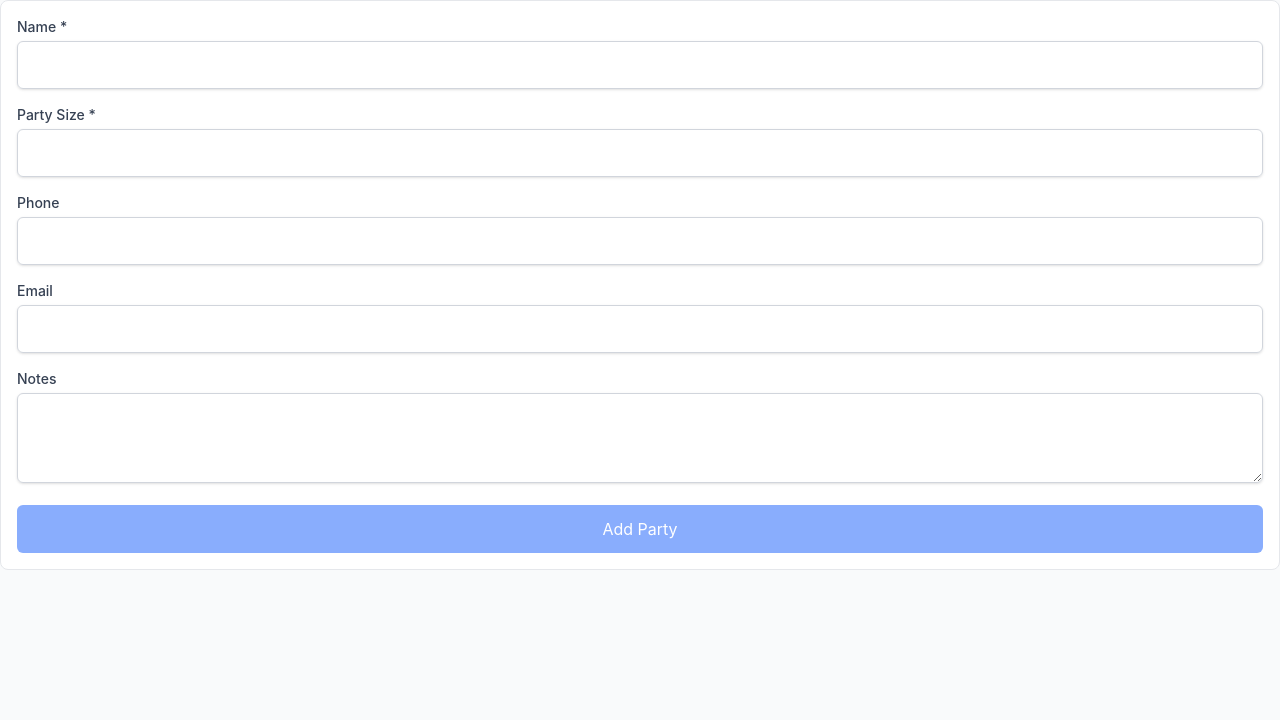
Test: AddPartyForm › displays error message on service failure
Type "Smith" into the field labelled "Name *". click: (640, 65)
box: [17,41,1263,89]
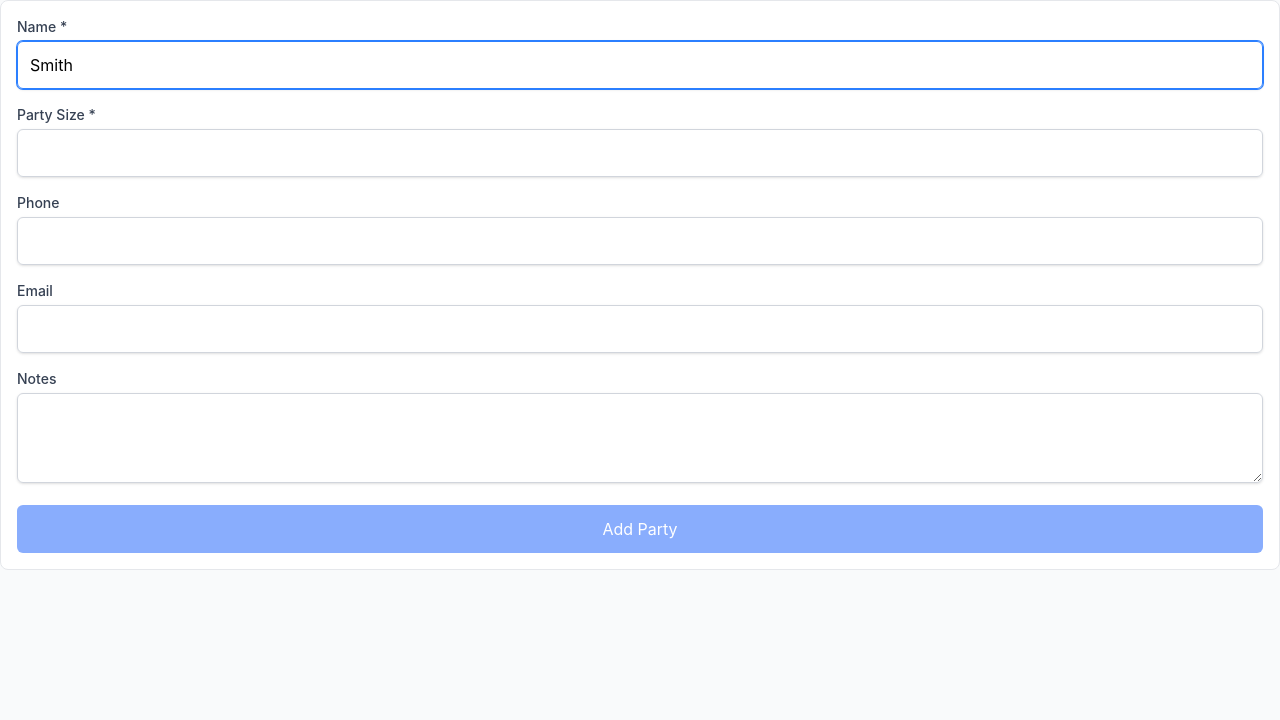
Type "4" into the number field labelled "Party Size *". click: (640, 153)
box: [17,129,1263,177]
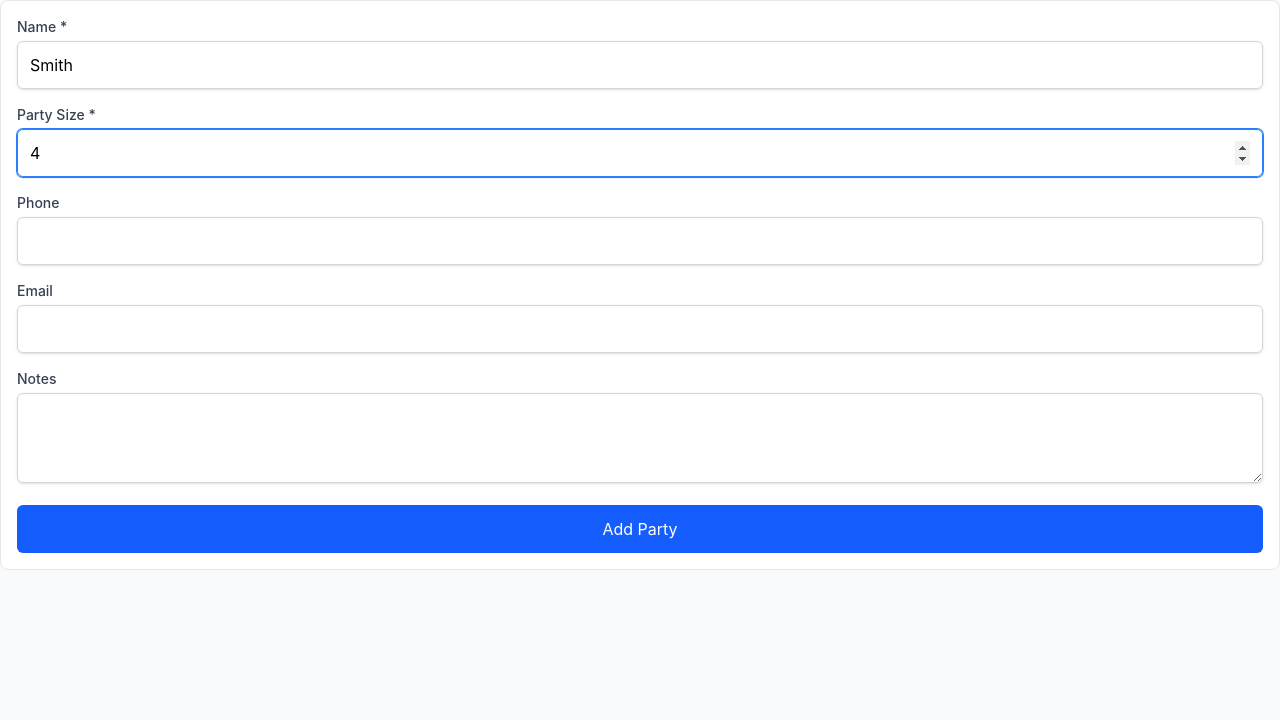
Click the button "Add Party". click: (640, 529)
box: [17,505,1263,553]
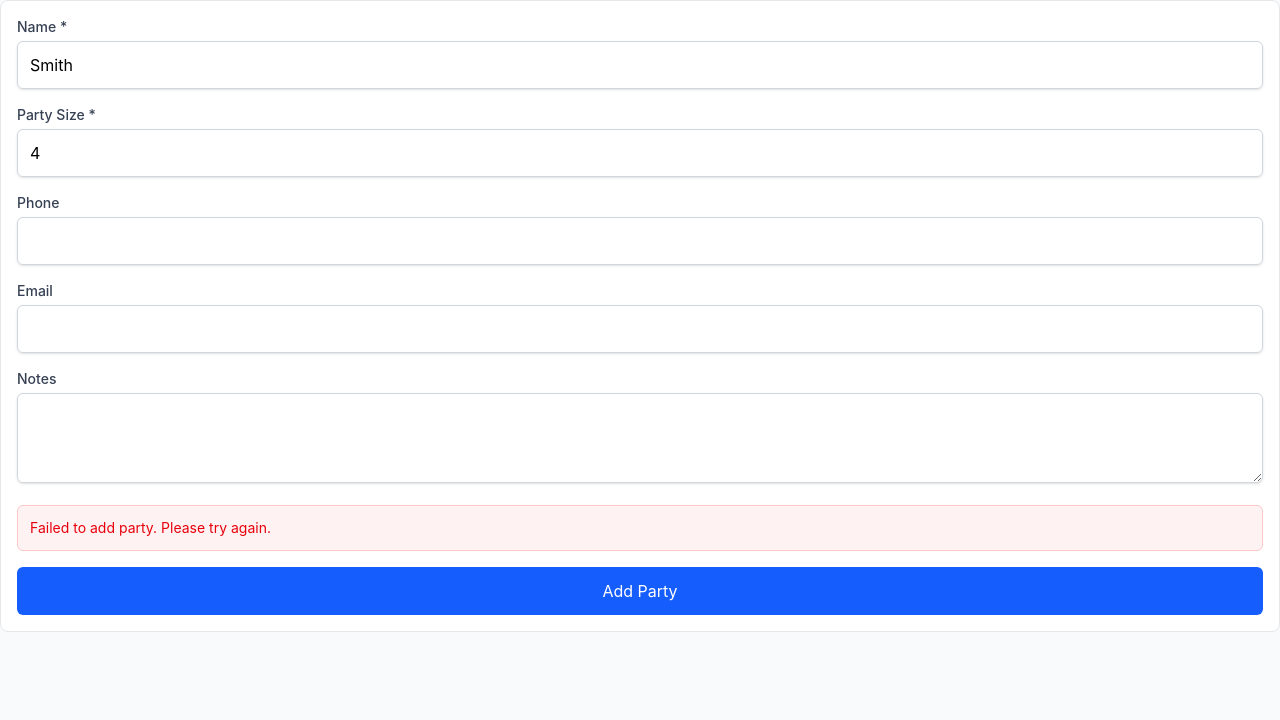
Result: the text "Failed to add party. Please try again." is shown at [30,519,271,536]
